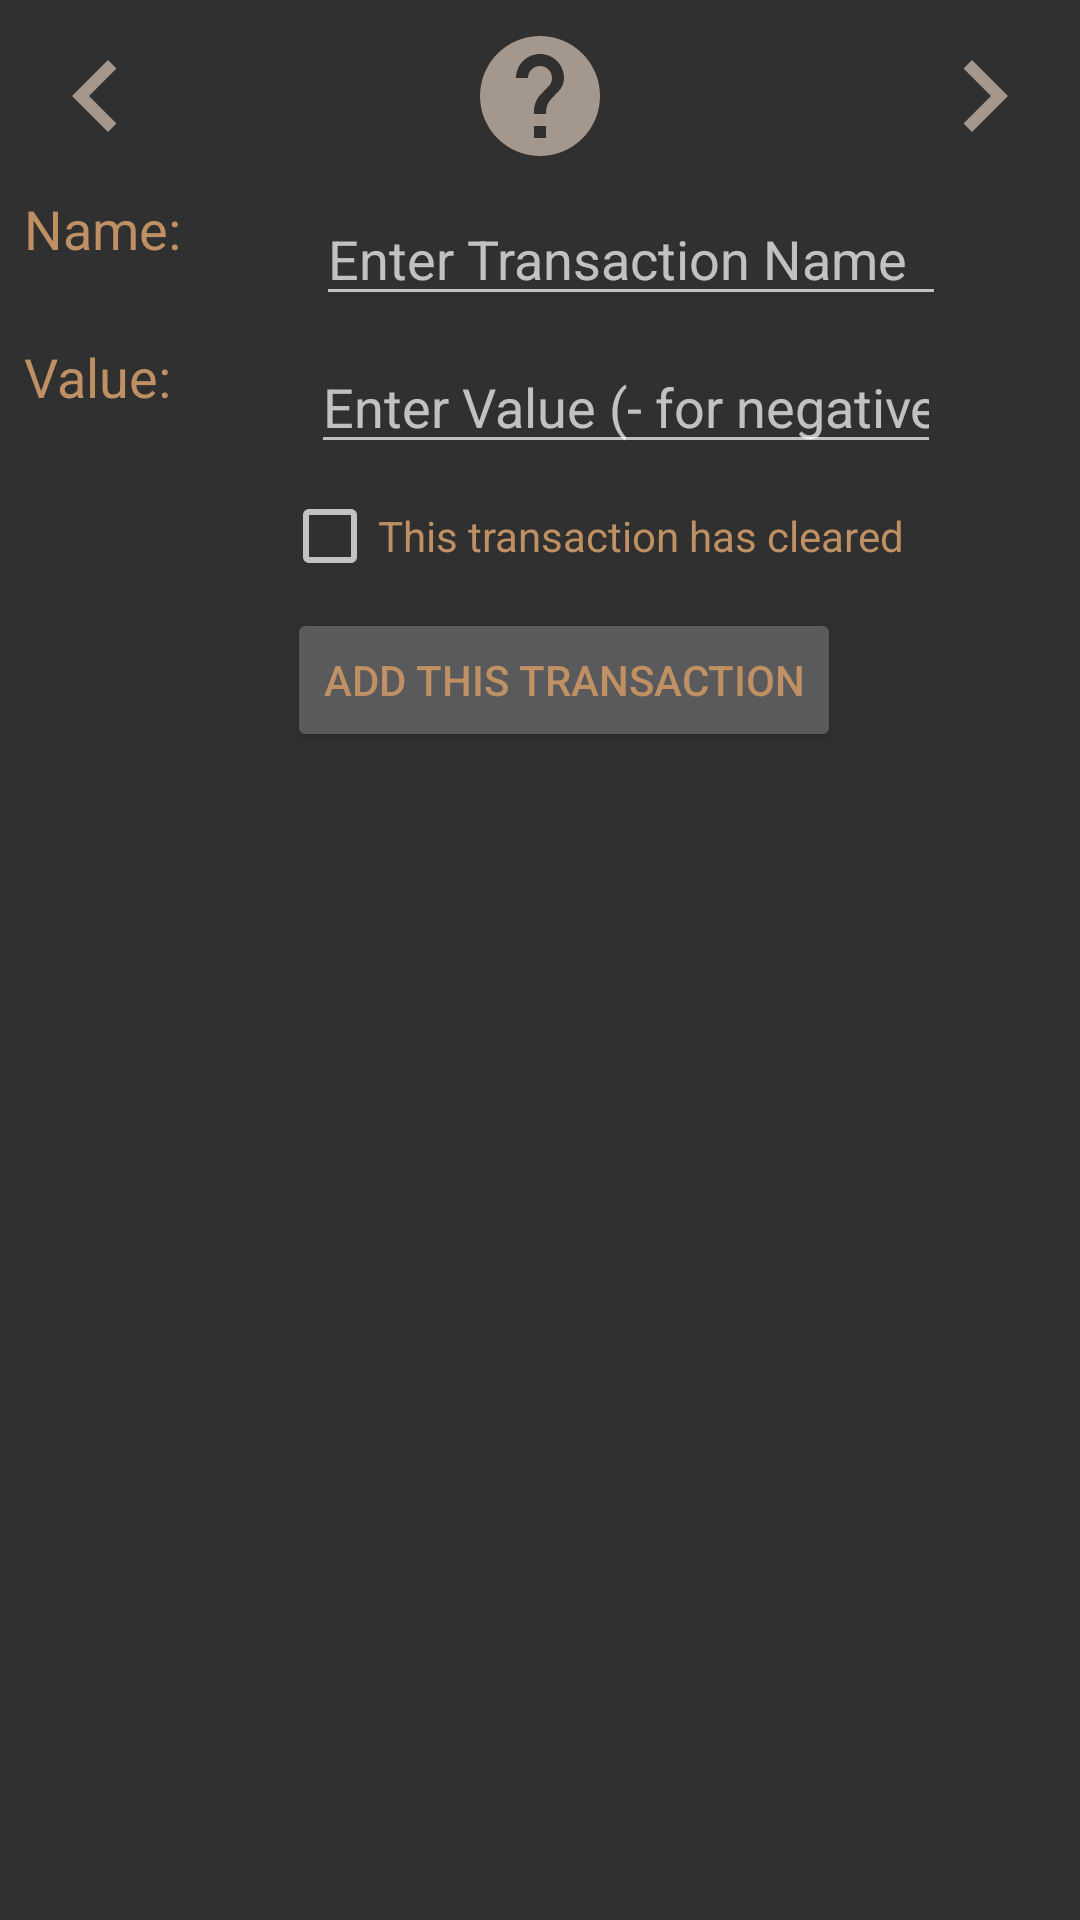

Icons on this 1080 × 1920 Android screen, each with the point to tap as (x=x, y=y):
help: (x=540, y=96)
navigate before: (x=94, y=96)
navigate next: (x=986, y=96)
